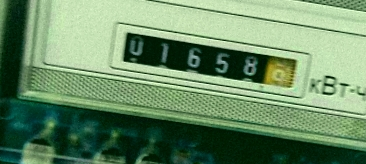0: (126, 34, 145, 57)
1: (155, 39, 172, 65)
5: (212, 50, 231, 76)
6: (183, 44, 205, 71)
8: (240, 54, 260, 78)
9: (268, 66, 286, 89)
screen: (104, 17, 316, 104)
